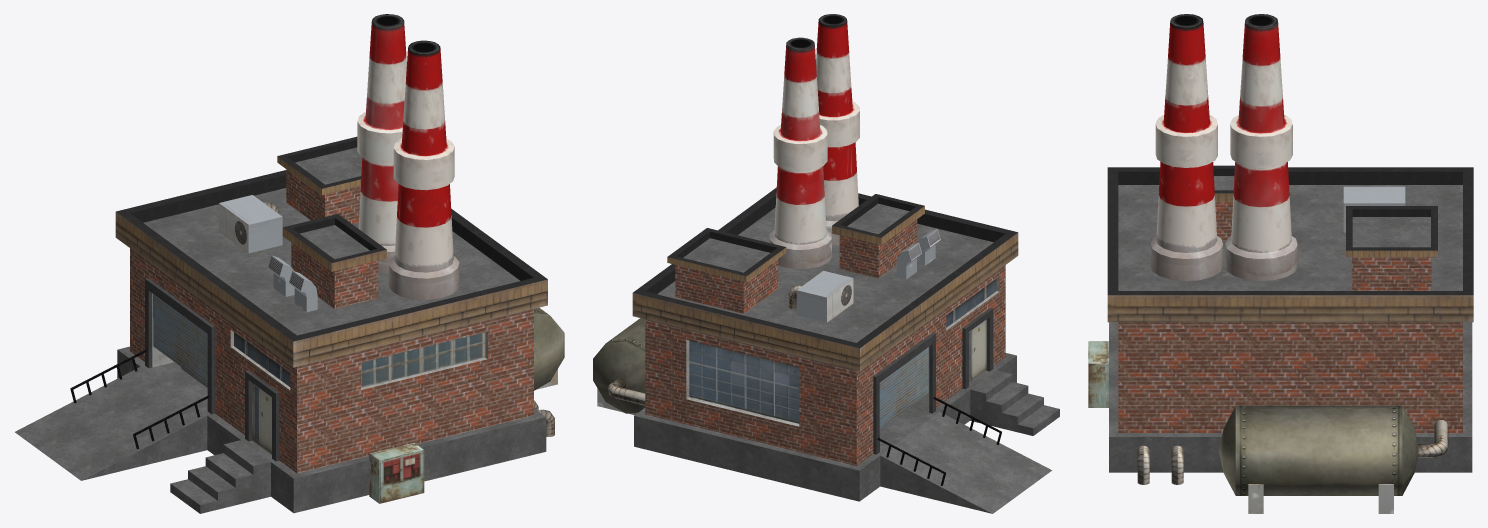
Rendered from Power_Plant_Mid.obj.
The picture shows the model from 3 angles, left to right: view 1: azimuth 30°, elevation 25°; view 2: azimuth 150°, elevation 25°; view 3: azimuth 270°, elevation 25°; orthographic projection. The views are drawn at different scales.
Visible parts, largest first — view 1: Factory; view 2: Factory; view 3: Factory.
Boxes of the visible parts, bbox=[...] form: Factory: bbox=[15, 14, 564, 513]; Factory: bbox=[593, 14, 1059, 513]; Factory: bbox=[1088, 14, 1473, 513].
Bounding box in the file's own units: 59.29 × 49.31 × 41.87.
1 material, 1 textured.
